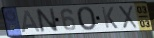6: (60, 8, 77, 32)
A: (21, 9, 42, 33)
K: (100, 6, 120, 30)
N: (34, 7, 60, 34)
O: (75, 6, 98, 32)
X: (117, 5, 140, 30)
